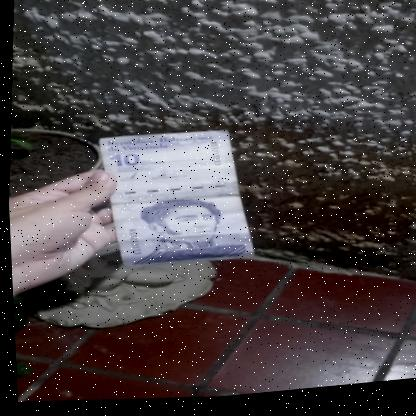ten-front-vef: (87, 122, 261, 282)
